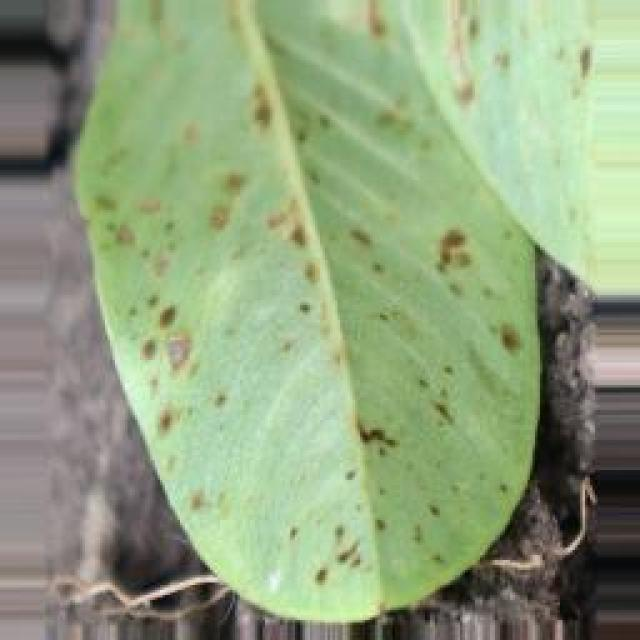Whitefly: (40, 0, 590, 575)
